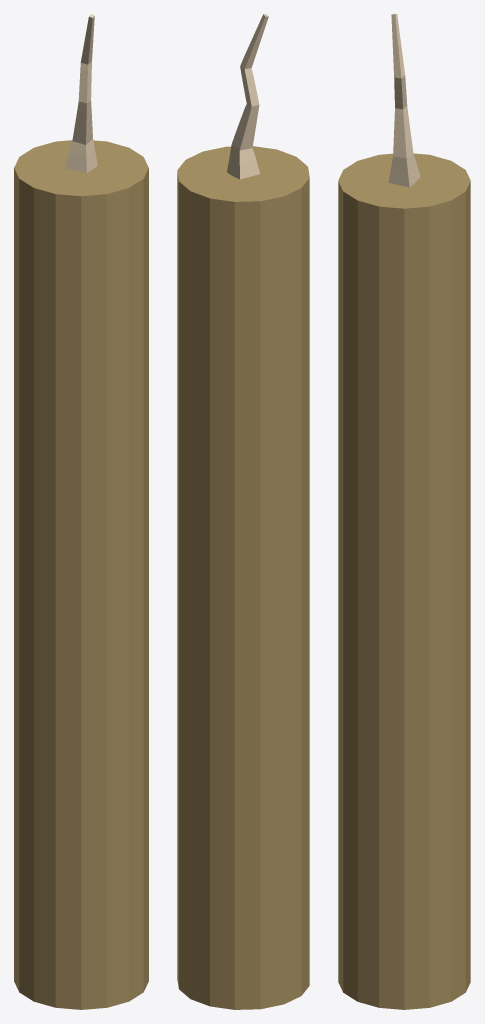
Rendered from vela.fbx.
3 views of the same model, side by side, from view 1: azimuth 90°, elevation 25°; view 2: azimuth 150°, elevation 25°; view 3: azimuth 270°, elevation 25° (orthographic).
Visible parts, largest first — view 1: Vela, Mech; view 2: Vela, Mech; view 3: Vela, Mech.
Boxes of the visible parts, <box> form: Vela: <box>14,140,148,1009</box>; Mech: <box>65,14,97,173</box>; Vela: <box>177,146,309,1009</box>; Mech: <box>227,14,268,179</box>; Vela: <box>338,153,470,1009</box>; Mech: <box>388,14,420,187</box>.
Bounding box in the file's own units: 9.23 × 73.77 × 9.23.
